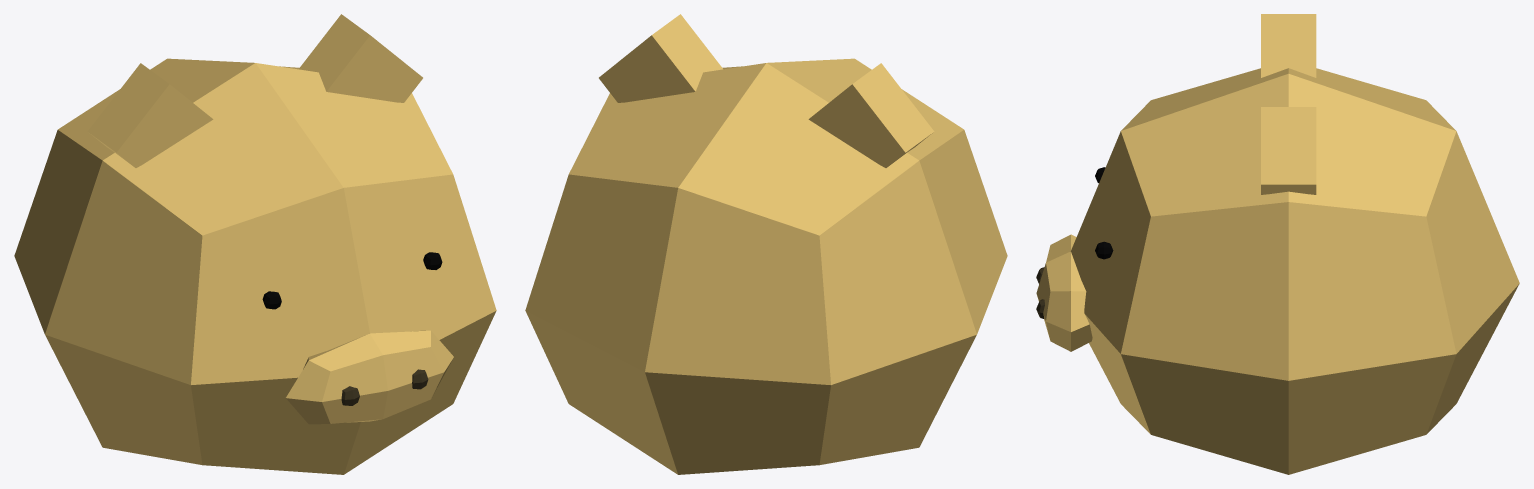
3 renders of one model, left to right at view 1: azimuth 30°, elevation 25°; view 2: azimuth 150°, elevation 25°; view 3: azimuth 270°, elevation 25°, orthographic. The views are drawn at different scales.
Visible parts, largest first — view 1: face, nose, ear-l, ear-r; view 2: face, ear-l, ear-r; view 3: face, ear-r, nose, ear-l.
Boxes of the visible parts, bbox=[...] form: face: bbox=[14, 58, 496, 474]; nose: bbox=[286, 330, 453, 424]; ear-l: bbox=[87, 63, 213, 167]; ear-r: bbox=[299, 14, 422, 102]; face: bbox=[525, 58, 1007, 474]; ear-l: bbox=[808, 63, 934, 167]; ear-r: bbox=[599, 14, 722, 102]; face: bbox=[1070, 68, 1519, 474]; ear-r: bbox=[1261, 107, 1316, 194]; nose: bbox=[1036, 234, 1092, 351]; ear-l: bbox=[1261, 14, 1316, 77].
Size of the model in its own units: 1.68 by 1.48 by 1.76.
